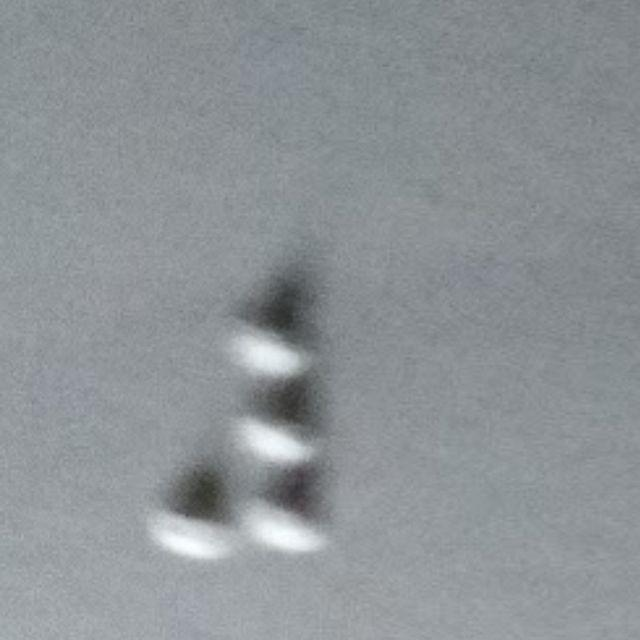at: (153, 293, 329, 555)
